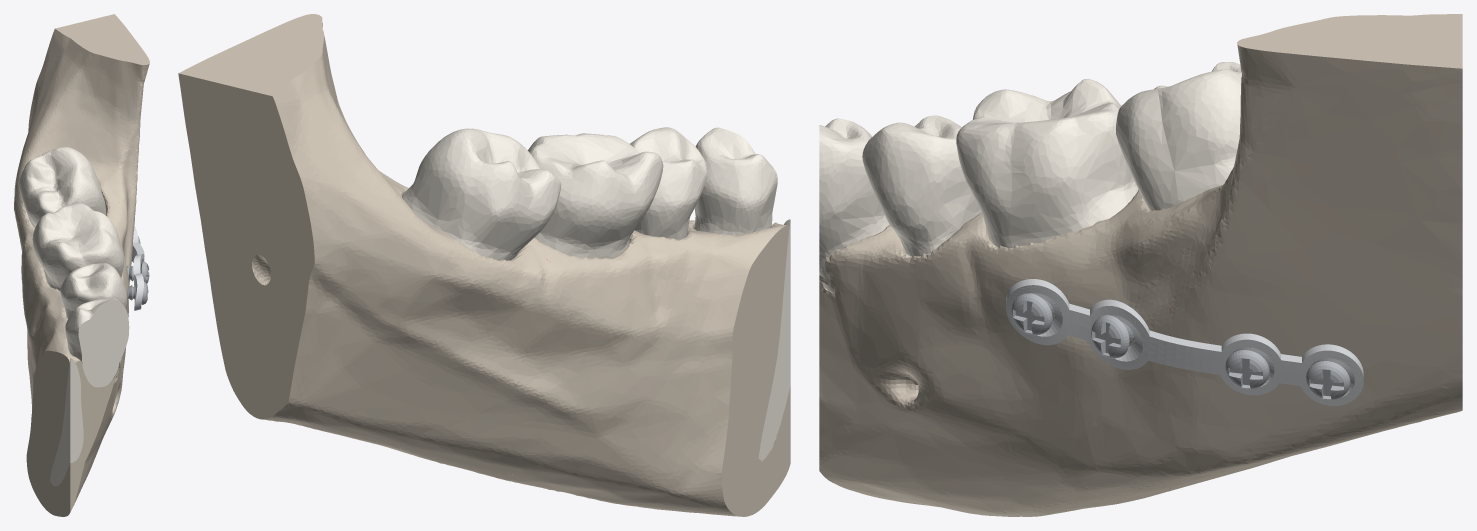
The model's file is 6-all-screws.glb.
3 views of the same model, side by side, from view 1: azimuth 30°, elevation 25°; view 2: azimuth 150°, elevation 25°; view 3: azimuth 270°, elevation 25° (orthographic). The views are drawn at different scales.
Parts seen in each view (by area): view 1: bone, teeth, plate, screw; view 2: bone, teeth; view 3: bone, teeth, plate, screw.
Boxes of the visible parts, x1=… form: bone: x1=14, y1=14, x2=149, y2=516; teeth: x1=18, y1=146, x2=129, y2=486; plate: x1=131, y1=226, x2=144, y2=310; screw: x1=127, y1=236, x2=149, y2=304; bone: x1=178, y1=14, x2=790, y2=516; teeth: x1=402, y1=127, x2=790, y2=461; bone: x1=819, y1=14, x2=1462, y2=516; teeth: x1=819, y1=62, x2=1241, y2=292; plate: x1=1006, y1=279, x2=1363, y2=405; screw: x1=1011, y1=293, x2=1350, y2=400.
Bounding box in the file's own units: 0.032 × 0.0474 × 0.044.
